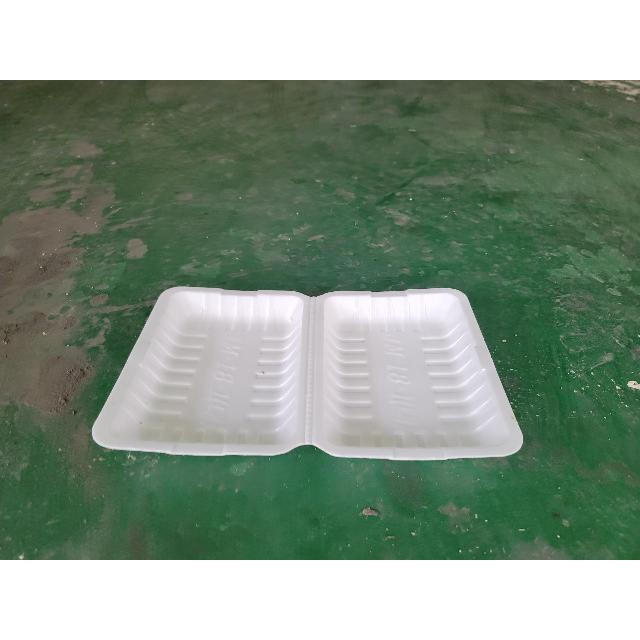Plastico descartable: (90, 286, 525, 464)
